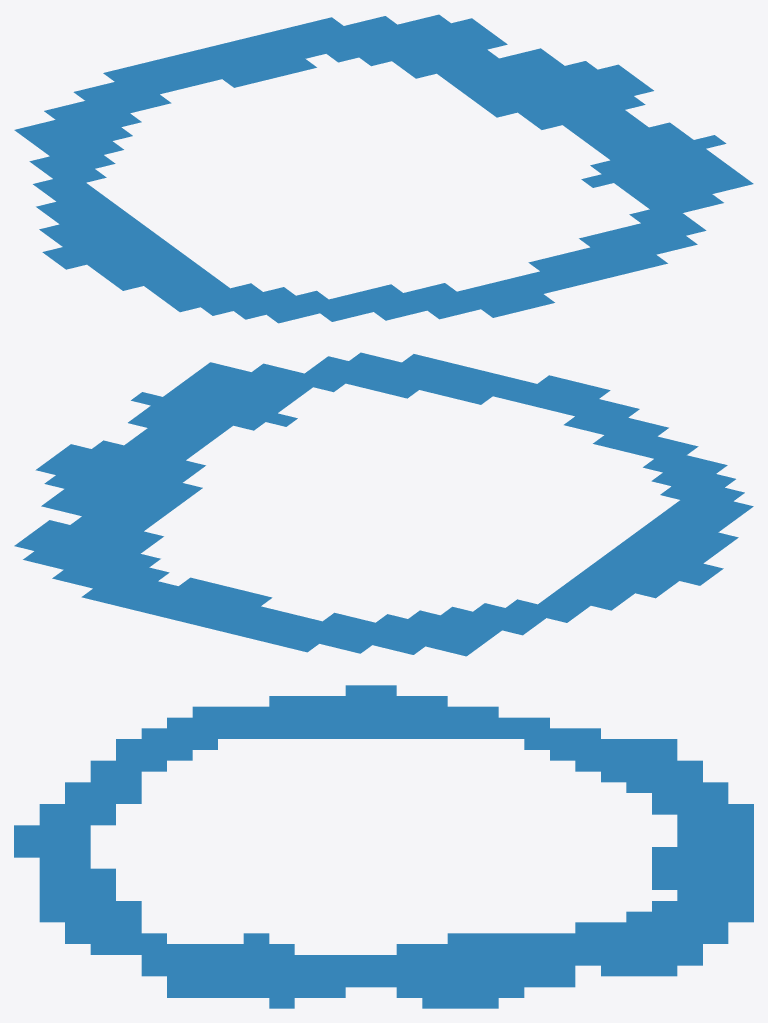
The model's file is Isl-islet1-PlaceForWaterObjects.fbx.
The picture shows the model from 3 angles, top to bottom: view 1: azimuth 30°, elevation 25°; view 2: azimuth 150°, elevation 25°; view 3: azimuth 270°, elevation 25°; orthographic projection. The views are drawn at different scales.
Visible parts, largest first — view 1: Isl-islet1-PlaceForWaterObjects; view 2: Isl-islet1-PlaceForWaterObjects; view 3: Isl-islet1-PlaceForWaterObjects.
Boxes of the visible parts, x1,y1,x2,y2 form: Isl-islet1-PlaceForWaterObjects: (14, 14, 753, 323); Isl-islet1-PlaceForWaterObjects: (14, 352, 753, 656); Isl-islet1-PlaceForWaterObjects: (14, 685, 753, 1008).
Size of the model in its own units: 30 by 0 by 29.
